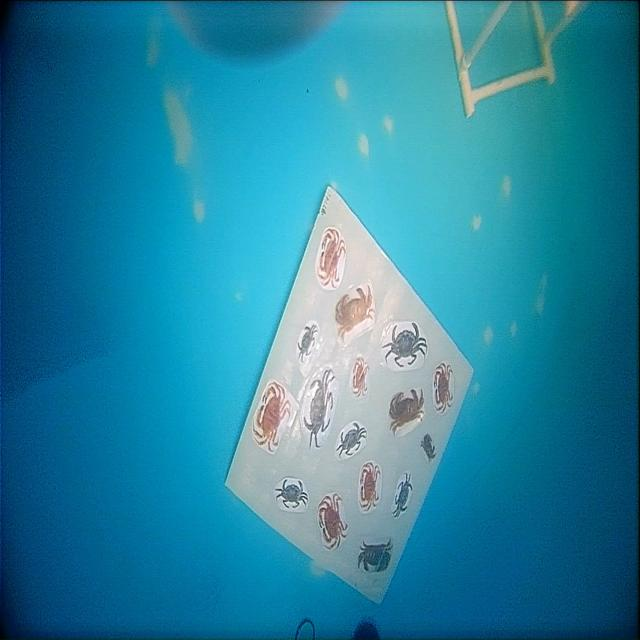GreenCrab: (303, 370, 335, 449), (382, 323, 427, 367), (336, 422, 365, 456), (276, 479, 308, 508)
